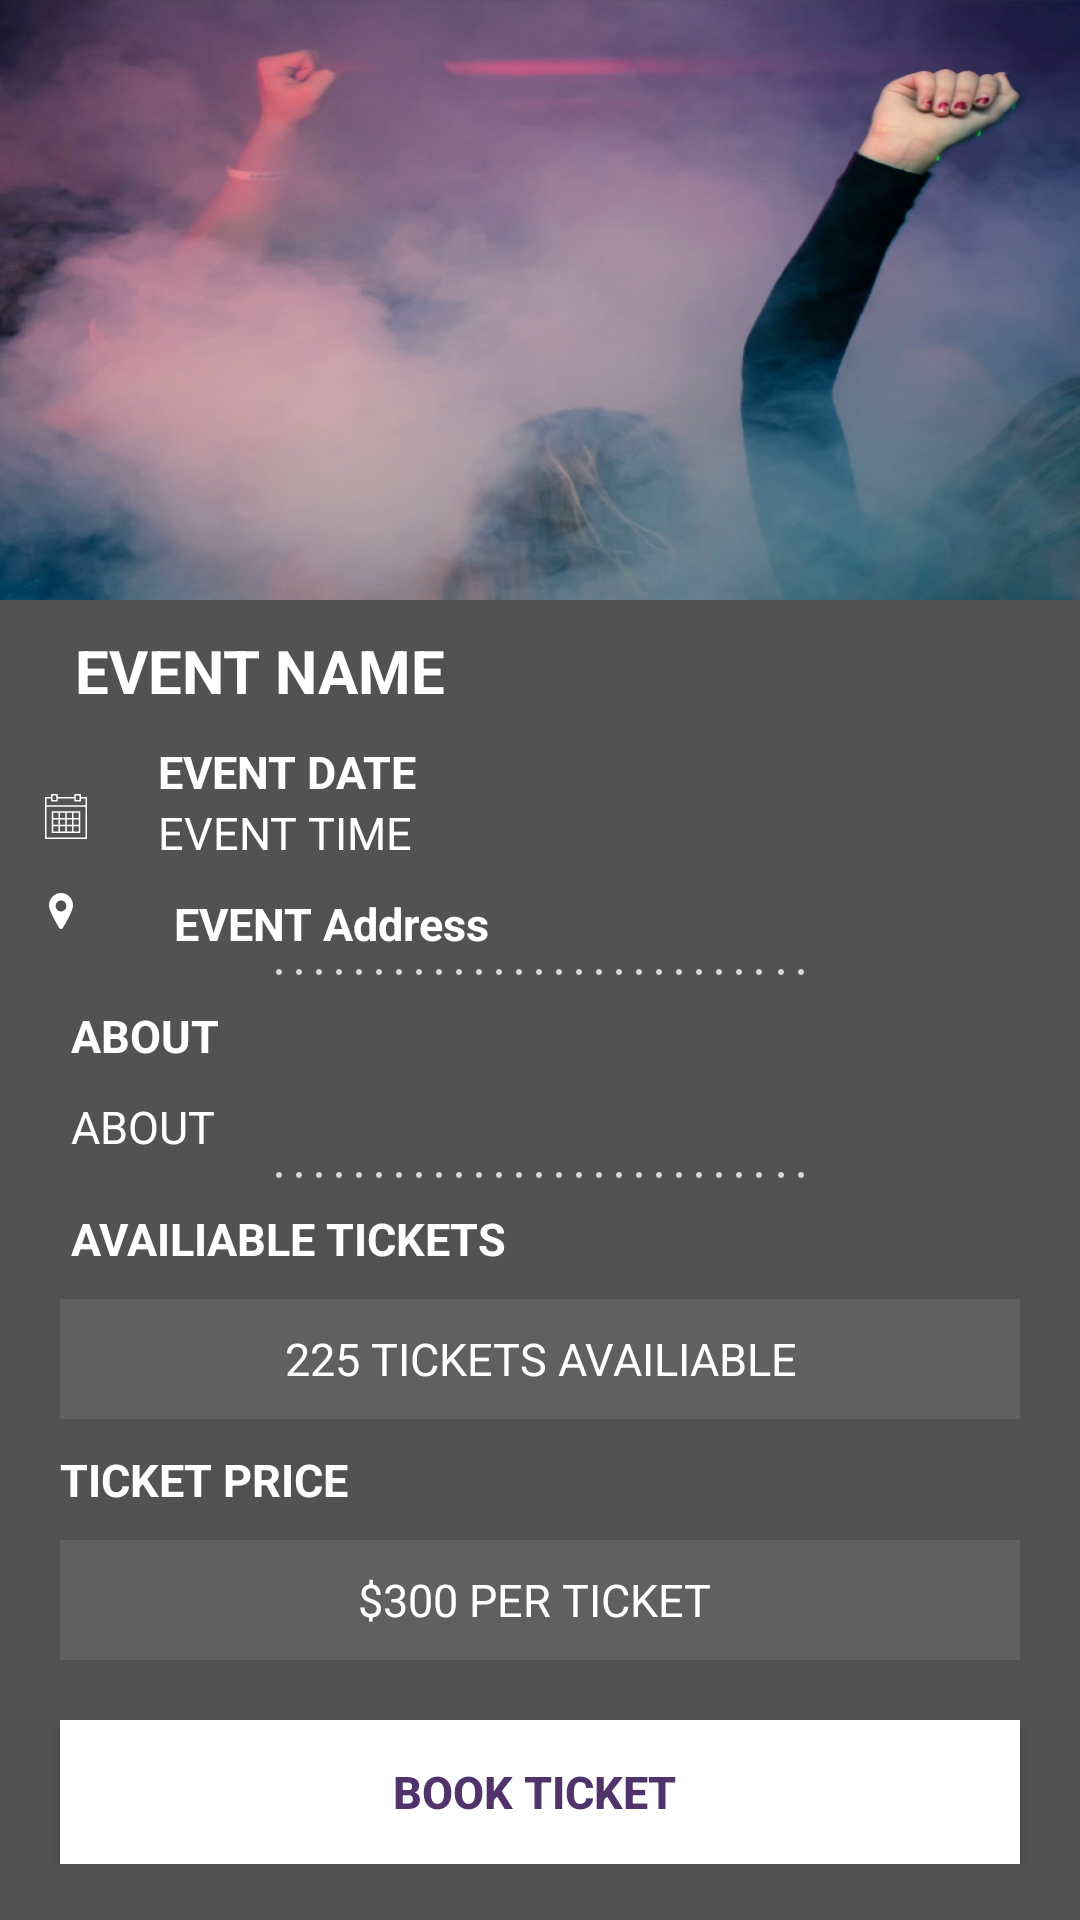

Screen size 1080w x 1920h. Icon name, then its center in pixels as [x,y]:
calendar: [66,816]
location: [61,911]
